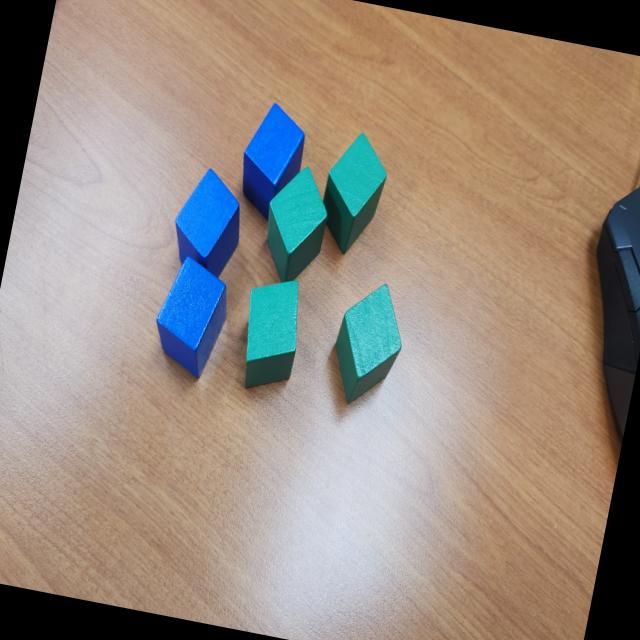blue: (147, 254, 237, 382), (232, 100, 312, 226), (167, 164, 250, 280)
green: (324, 277, 414, 413), (312, 126, 394, 262), (255, 160, 336, 290), (232, 271, 310, 398)
